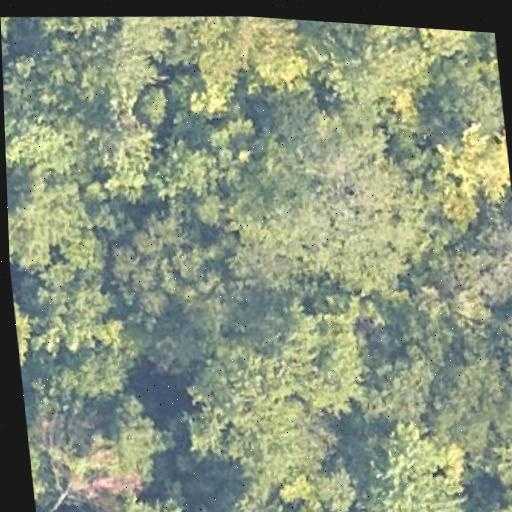tree-top: (232, 100, 429, 307), (166, 335, 342, 511), (245, 296, 377, 422), (34, 384, 169, 498), (318, 21, 437, 142), (107, 198, 226, 318), (168, 11, 312, 110), (347, 410, 478, 512), (22, 287, 139, 397), (426, 85, 512, 211), (23, 264, 122, 367), (6, 167, 95, 278), (431, 349, 512, 468), (73, 20, 168, 113), (2, 66, 80, 178), (420, 40, 505, 135), (151, 125, 236, 219), (79, 108, 160, 206), (446, 205, 512, 309), (359, 345, 437, 430), (46, 336, 135, 402), (66, 483, 188, 512), (12, 284, 42, 379), (27, 420, 57, 512), (405, 27, 486, 60), (494, 309, 512, 424), (470, 474, 512, 512), (1, 15, 28, 47)
